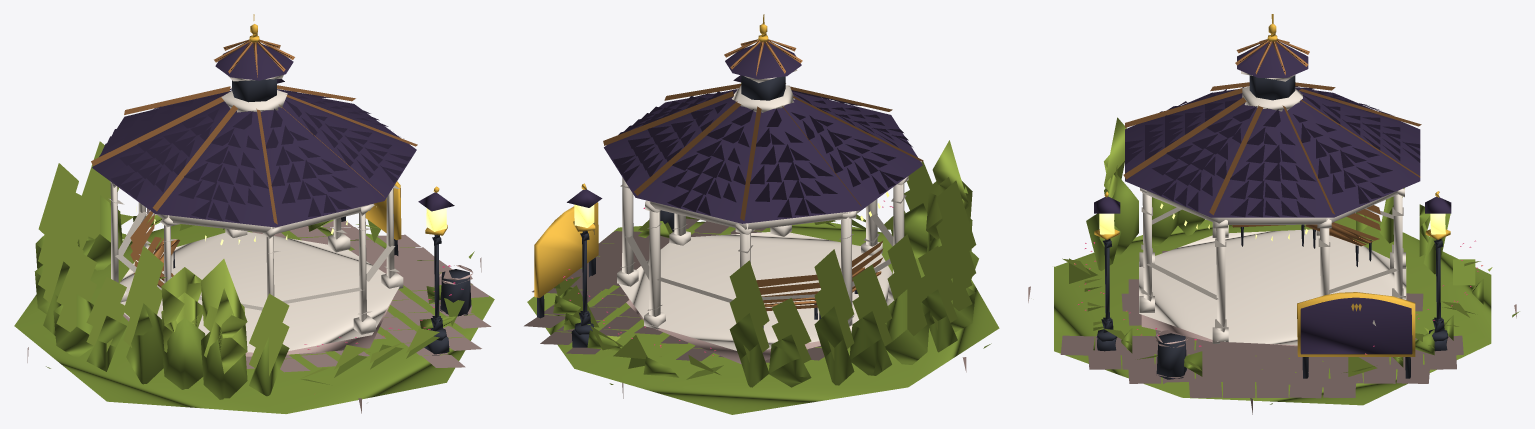
3 views of the same model, side by side, from view 1: azimuth 30°, elevation 25°; view 2: azimuth 150°, elevation 25°; view 3: azimuth 270°, elevation 25° (orthographic). The views are drawn at different scales.
Bounding box in the file's own units: 10.68 × 7.07 × 10.55.
